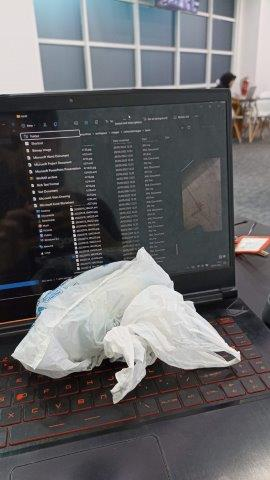plastik: (13, 249, 240, 402)
